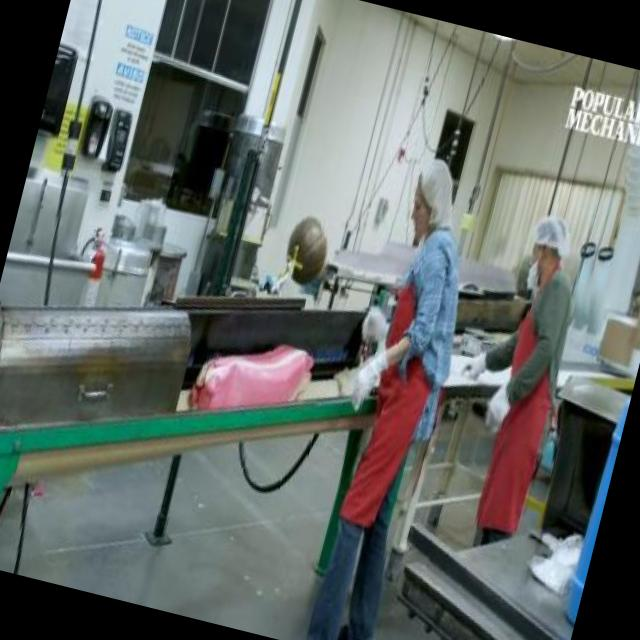hairnet: (408, 157, 462, 231), (532, 213, 580, 258)
